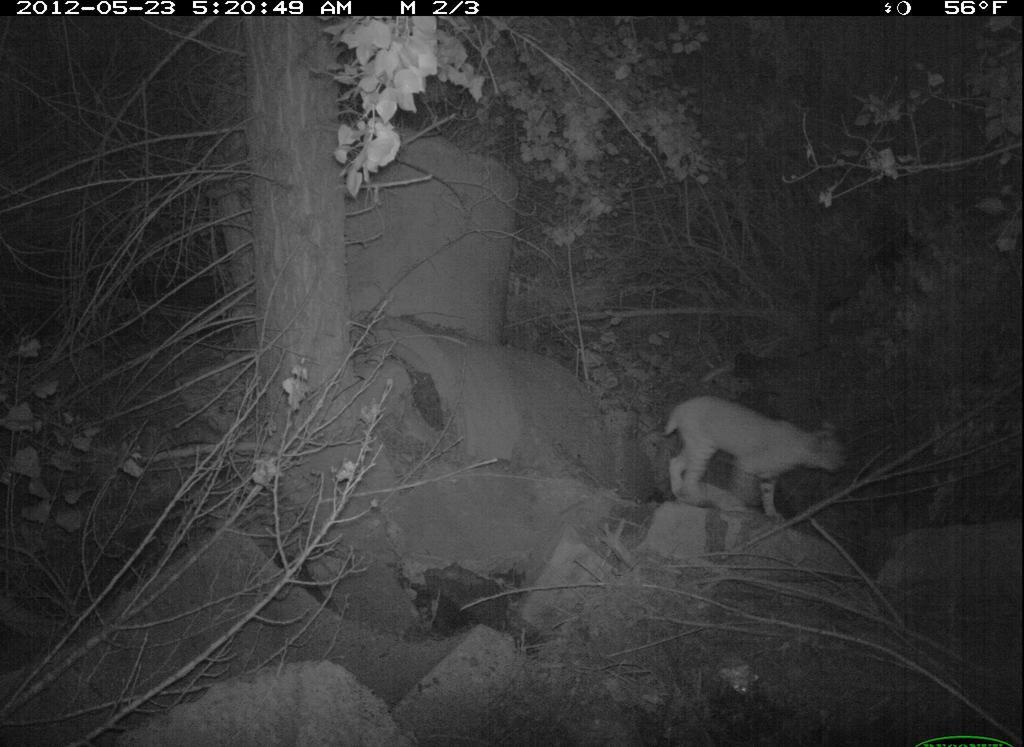bobcat: (657, 390, 858, 534)
